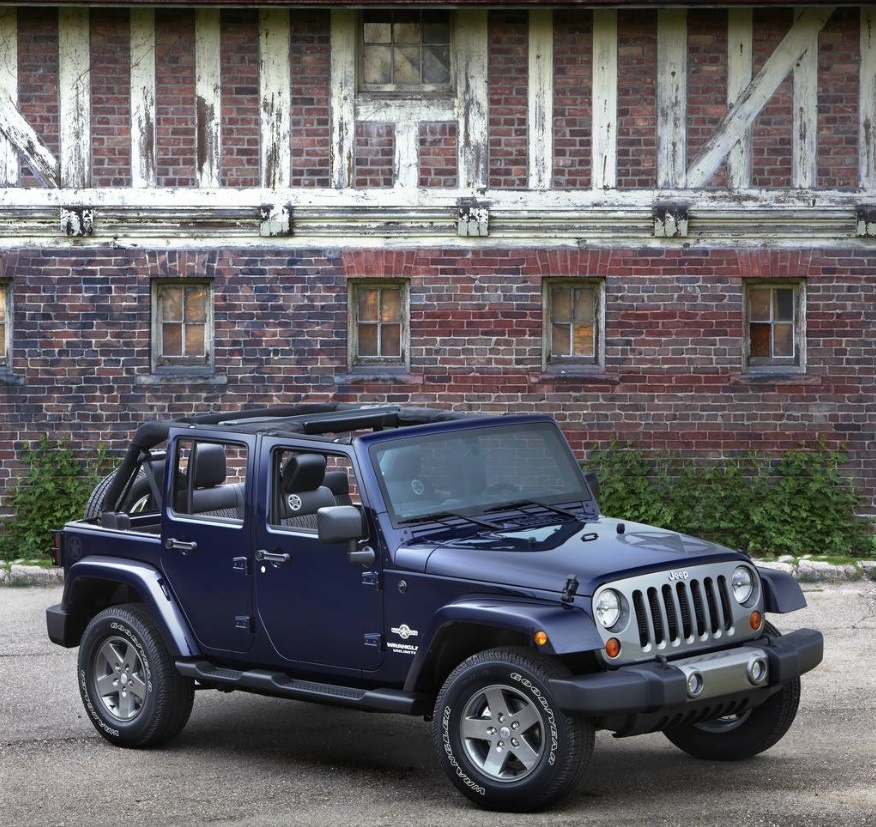jeep: (36, 388, 802, 789)
